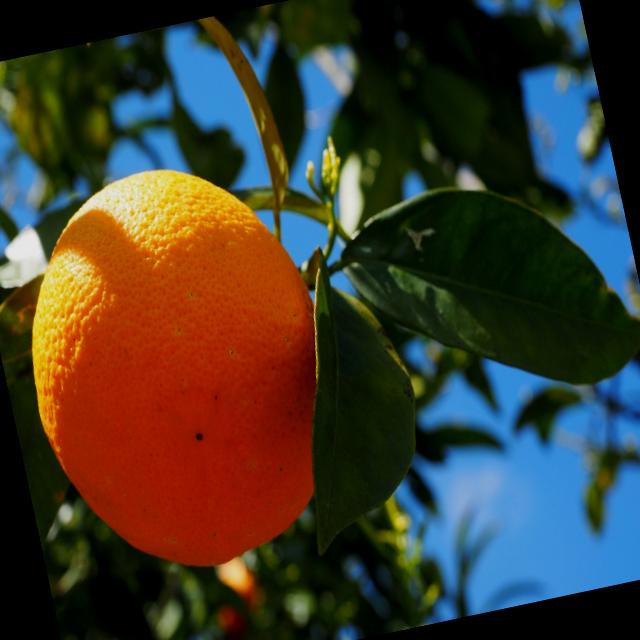orange: (0, 142, 379, 628)
